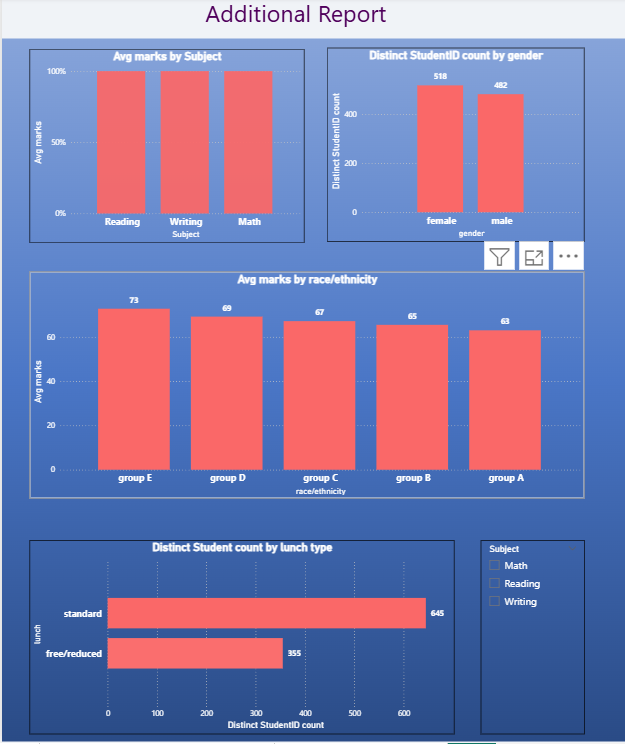

Layout of this report page (visuals, bound fields, positions):
{"tool":"powerbi","page":{"name":"Additional report'","canvas":[1000,1200],"ordinal":2},"visuals":[{"type":"textbox","box":[0,0,1280.3,70.9],"z":0},{"type":"columnChart","fields":{"Category":["Students table.gender"],"Y":["Attendance.Distinct StudentID count"]},"box":[520,86,412,310],"z":1000},{"type":"clusteredColumnChart","fields":{"Category":["StudentsPerformance (1).race/ethnicity"],"Y":["Attendance.Avg marks"]},"box":[44,444,888,364],"z":2000},{"type":"slicer","fields":{"Values":["Marks_Raw.Subject"]},"box":[766,874,166,310],"z":3000},{"type":"barChart","title":"Distinct Student count by lunch type","fields":{"Category":["StudentsPerformance (1).lunch"],"Y":["Attendance.Distinct StudentID count"]},"box":[44,874,680,310],"z":4000},{"type":"clusteredColumnChart","fields":{"Category":["Marks_Raw.Subject"],"Y":["Attendance.Avg marks"]},"box":[44,88,440,310],"z":5000}]}

Visuals, with their boxes in screenshot pixels (x1, y1, x2, y2), scaled from the page's 1000x1200 canvas onto the 625x744 screenshot:
textbox: <region>0, 0, 624, 44</region>
columnChart - Students table.gender x Attendance.Distinct StudentID count: <region>325, 53, 582, 246</region>
clusteredColumnChart - StudentsPerformance (1).race/ethnicity x Attendance.Avg marks: <region>28, 275, 582, 501</region>
slicer - Marks_Raw.Subject: <region>479, 542, 582, 734</region>
"Distinct Student count by lunch type" barChart: <region>28, 542, 452, 734</region>
clusteredColumnChart - Marks_Raw.Subject x Attendance.Avg marks: <region>28, 55, 302, 247</region>
